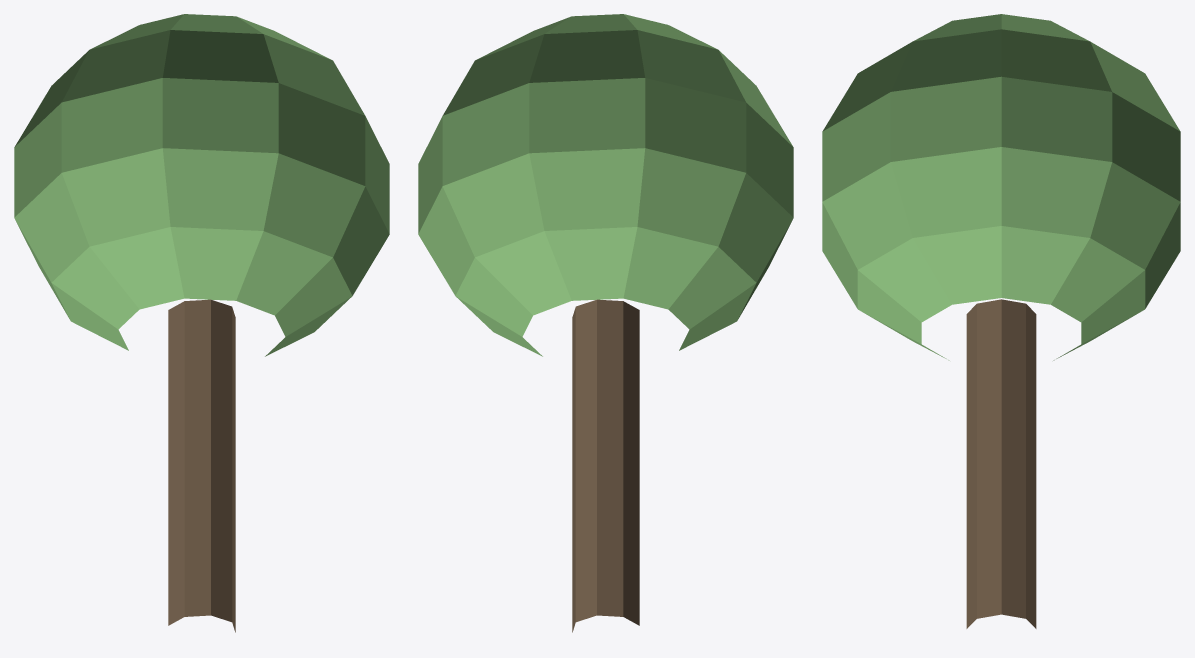
Rendered from round.glb.
The picture shows the model from 3 angles, left to right: view 1: azimuth 30°, elevation 25°; view 2: azimuth 150°, elevation 25°; view 3: azimuth 270°, elevation 25°; orthographic projection.
Parts seen in each view (by area): view 1: round; view 2: round; view 3: round.
Part boxes in pixels (bbox=[...]): round: bbox=[14, 14, 389, 632]; round: bbox=[418, 14, 793, 632]; round: bbox=[822, 14, 1180, 628].
Size of the model in its own units: 0.9749 by 1.7 by 0.9272.
